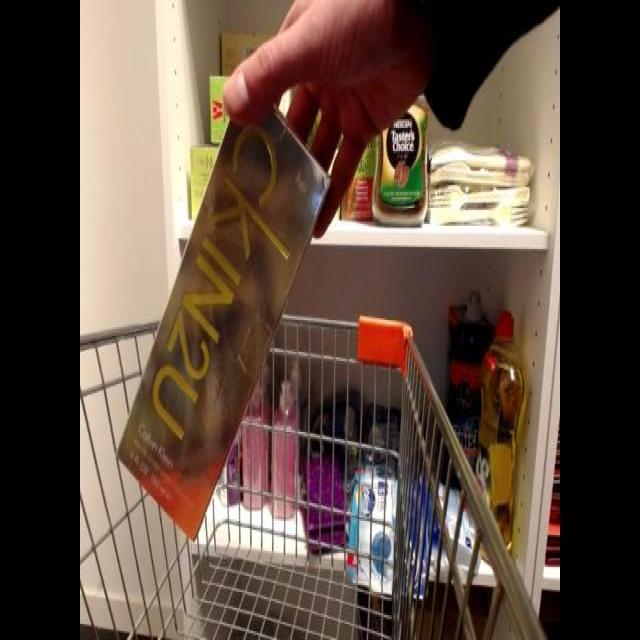Calvin Klein: (114, 74, 346, 541)
